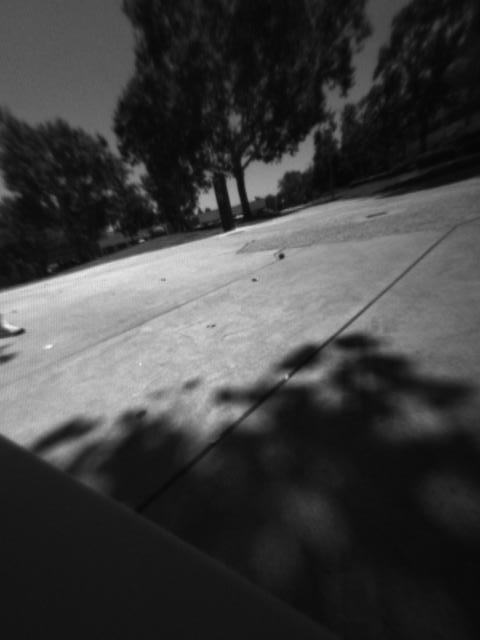dogtoy: (269, 245, 295, 264)
